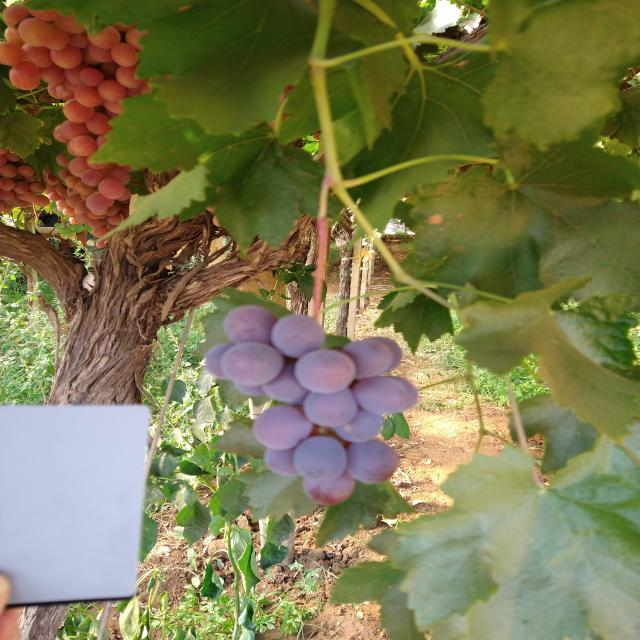grapes: (253, 404, 312, 451), (295, 349, 356, 394), (221, 342, 282, 387), (294, 437, 348, 482), (223, 304, 278, 348), (272, 314, 326, 358), (346, 441, 400, 484), (344, 339, 394, 379), (302, 391, 358, 426), (262, 361, 306, 404), (330, 407, 383, 442), (355, 378, 405, 415), (302, 472, 354, 506), (364, 337, 404, 372), (381, 376, 419, 412), (206, 342, 232, 379), (18, 18, 52, 46), (264, 448, 296, 477), (50, 45, 84, 69), (63, 98, 95, 123), (9, 65, 40, 90), (87, 26, 120, 49), (22, 44, 52, 68), (2, 4, 30, 29), (111, 42, 139, 67), (54, 13, 86, 34), (116, 66, 146, 88), (44, 24, 68, 50), (75, 85, 103, 107), (125, 28, 151, 51), (70, 135, 97, 157), (38, 63, 66, 84), (0, 41, 23, 66), (99, 80, 125, 101), (86, 113, 112, 134), (61, 120, 88, 140), (98, 179, 125, 199), (86, 194, 114, 212), (29, 7, 61, 21), (16, 60, 38, 80), (89, 44, 113, 62), (233, 383, 263, 397), (68, 157, 89, 177), (80, 68, 103, 86), (64, 68, 85, 86), (81, 169, 103, 186), (68, 32, 90, 48), (5, 27, 23, 45), (54, 124, 70, 143), (101, 100, 124, 113), (57, 85, 75, 101), (82, 50, 101, 65), (75, 180, 94, 195), (48, 82, 63, 100), (111, 170, 130, 184), (86, 156, 106, 169), (106, 212, 125, 225), (114, 22, 138, 32), (0, 165, 18, 178), (115, 188, 131, 202), (66, 195, 82, 209), (92, 227, 112, 238), (68, 142, 82, 157), (42, 171, 57, 185), (13, 181, 29, 194), (96, 134, 108, 151), (65, 176, 82, 188), (33, 195, 50, 207), (1, 194, 19, 205), (0, 177, 15, 190), (19, 165, 35, 177), (125, 87, 141, 98), (29, 183, 46, 193), (56, 153, 68, 167), (76, 200, 90, 212), (59, 169, 74, 180), (0, 189, 15, 200), (43, 184, 57, 195), (104, 205, 118, 216), (118, 162, 133, 172), (23, 192, 38, 202), (47, 173, 60, 183), (56, 198, 69, 208), (88, 219, 102, 228), (5, 153, 20, 161), (87, 212, 102, 220), (96, 238, 106, 250), (79, 213, 92, 222), (18, 200, 32, 208), (48, 192, 60, 201), (118, 195, 130, 204), (76, 215, 88, 224), (62, 208, 75, 216), (91, 209, 108, 215), (0, 155, 8, 167), (22, 176, 38, 182), (107, 222, 119, 230), (58, 189, 68, 198), (15, 193, 26, 201), (80, 194, 92, 201), (66, 82, 76, 90), (43, 165, 51, 175), (69, 217, 79, 225), (11, 200, 22, 206), (314, 132, 322, 140), (55, 184, 63, 191), (67, 188, 74, 196), (73, 188, 81, 195), (104, 238, 111, 246), (0, 148, 9, 154), (3, 203, 11, 209), (56, 206, 64, 212), (74, 209, 82, 215), (2, 208, 12, 212), (0, 202, 4, 210), (0, 180, 3, 188), (94, 191, 100, 195), (0, 208, 3, 212)
